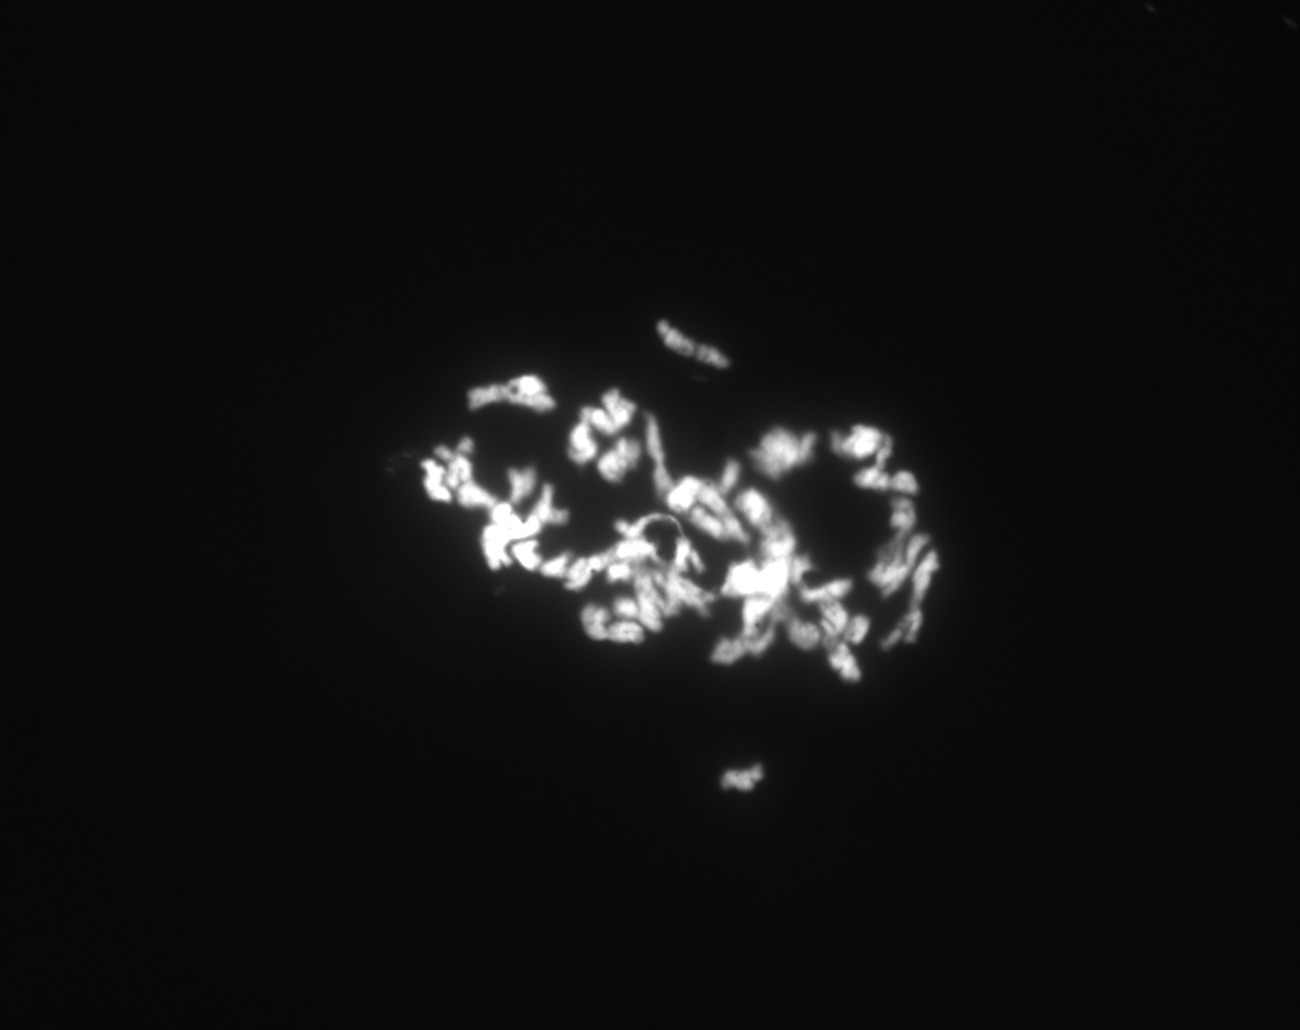Chromosomes: (330, 247, 993, 806)
